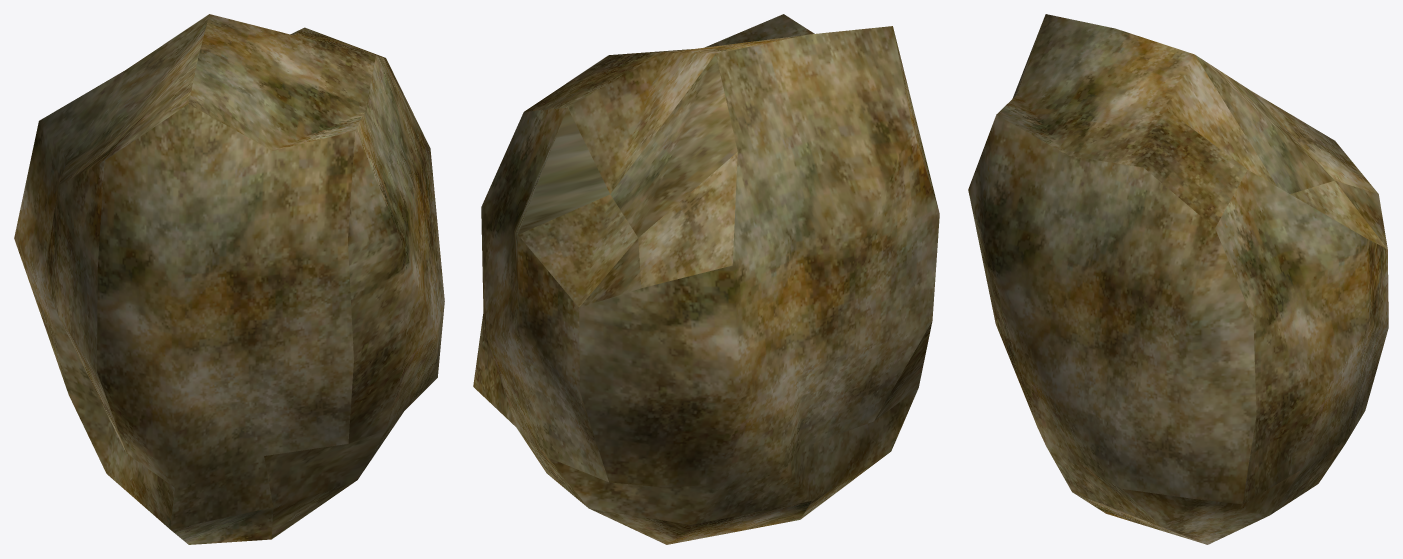
The model's file is LVL_ROAST_MUTTON_ROCK07.fbx.
The picture shows the model from 3 angles, left to right: view 1: azimuth 30°, elevation 25°; view 2: azimuth 150°, elevation 25°; view 3: azimuth 270°, elevation 25°; orthographic projection. The views are drawn at different scales.
Visible parts, largest first — view 1: LVL_ROAST_MUTTON_ROCK07; view 2: LVL_ROAST_MUTTON_ROCK07; view 3: LVL_ROAST_MUTTON_ROCK07.
Boxes of the visible parts, bbox=[...] form: LVL_ROAST_MUTTON_ROCK07: bbox=[14, 14, 444, 544]; LVL_ROAST_MUTTON_ROCK07: bbox=[473, 14, 939, 544]; LVL_ROAST_MUTTON_ROCK07: bbox=[968, 14, 1388, 544].
Size of the model in its own units: 8488 by 10127 by 8490.
Materials: 1 (1 with a texture image).
